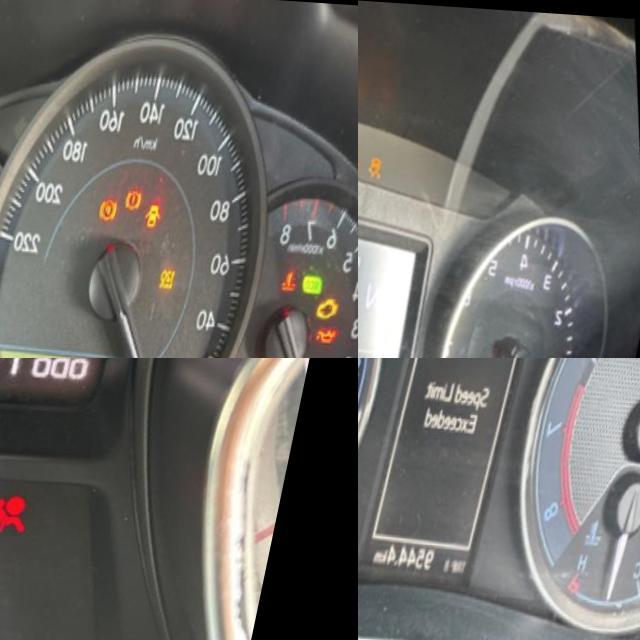High Engine Coolant Temperature: (292, 261, 311, 288)
